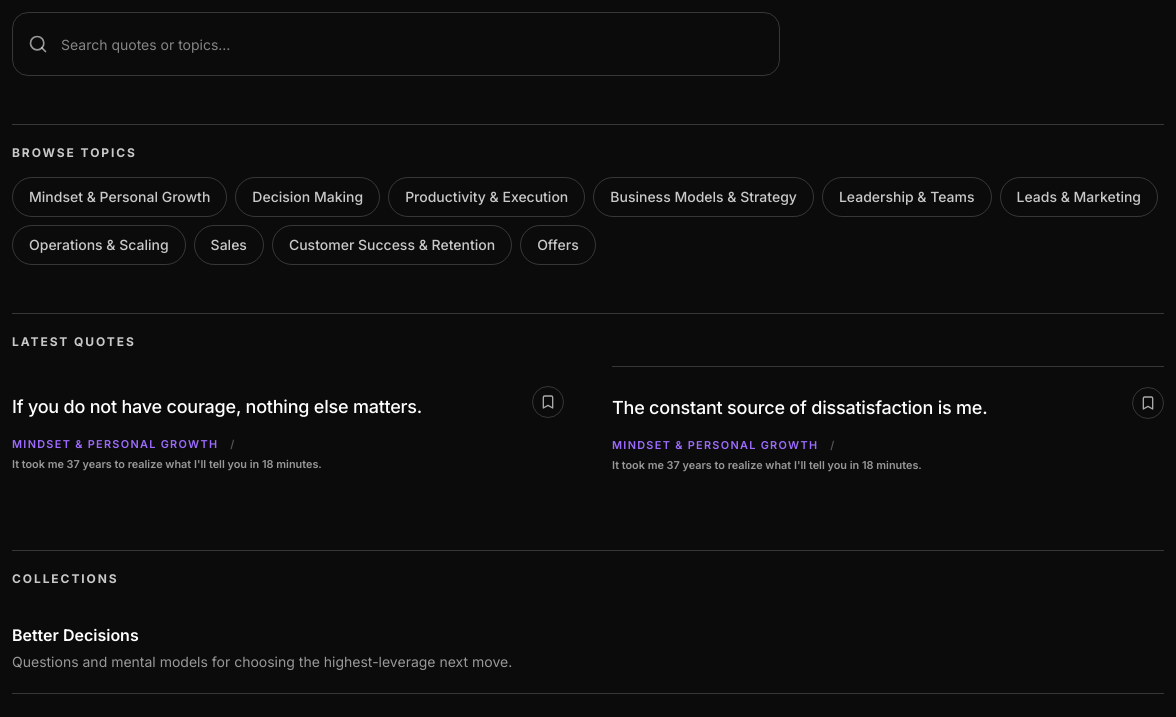
Test: DiscoverView › searches tags and provides a clear reset action
The width and height of the screenshot is (1176, 717).
Type "advertising" into the search field labelled "Search quotes".
click(396, 44); type("advertising")  # box x1=12 y1=12 x2=780 y2=76
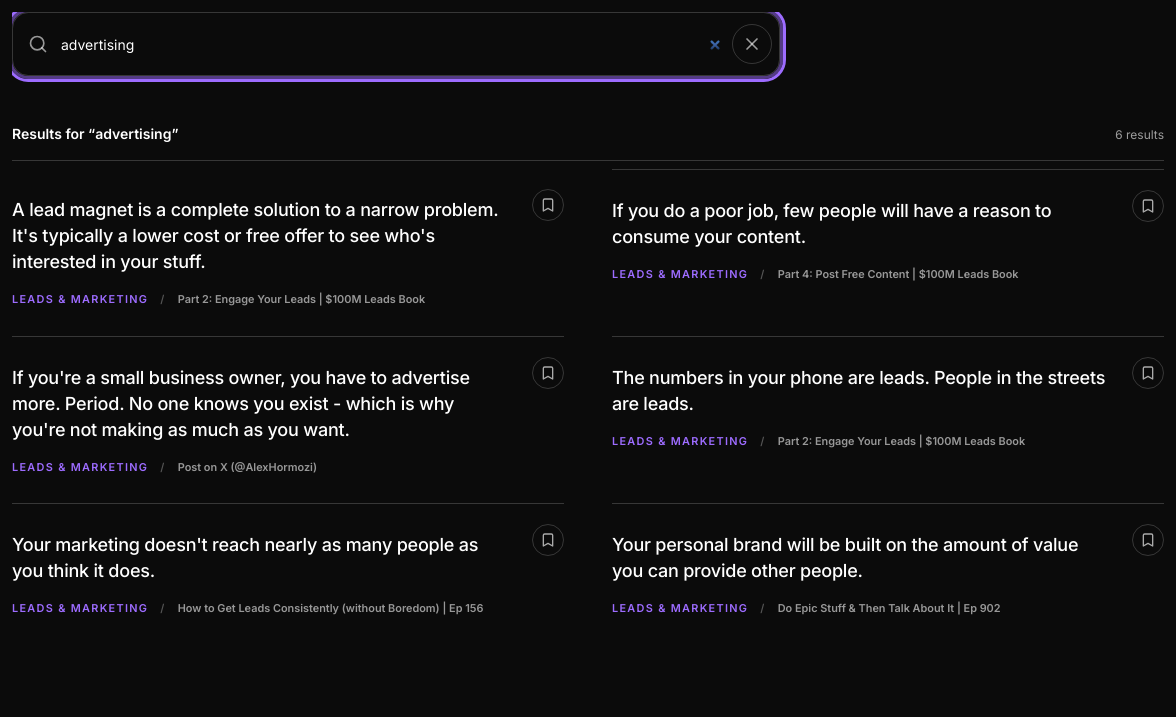
Expected: the text "If you're a small business owner, you have to advertise more. Period. No one knows you exist - which is why you're not m" is shown, x1=12 y1=367 x2=470 y2=440
Expected: the text "6 results" is shown, x1=1115 y1=127 x2=1164 y2=143
Click the button named "Clear search".
click(752, 44)  # box x1=732 y1=24 x2=772 y2=64
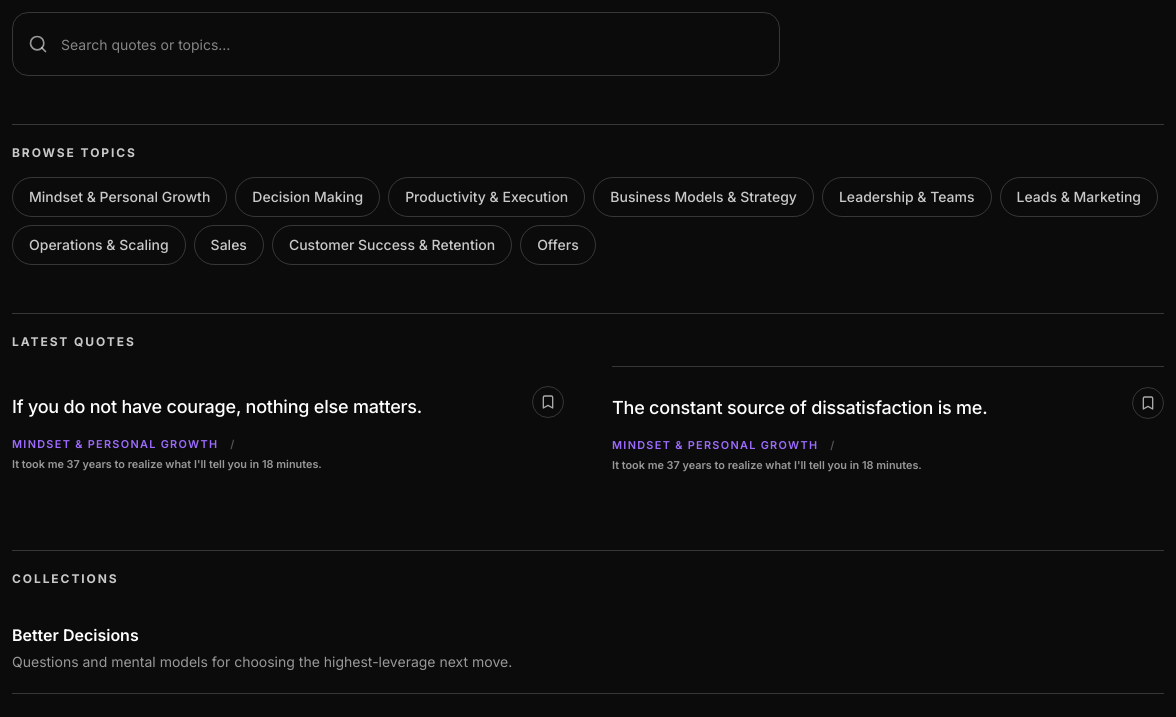
Expected: the search field labelled "Search quotes" is empty, x1=12 y1=12 x2=780 y2=76
Expected: the heading "Browse topics" is shown, x1=12 y1=145 x2=137 y2=161
